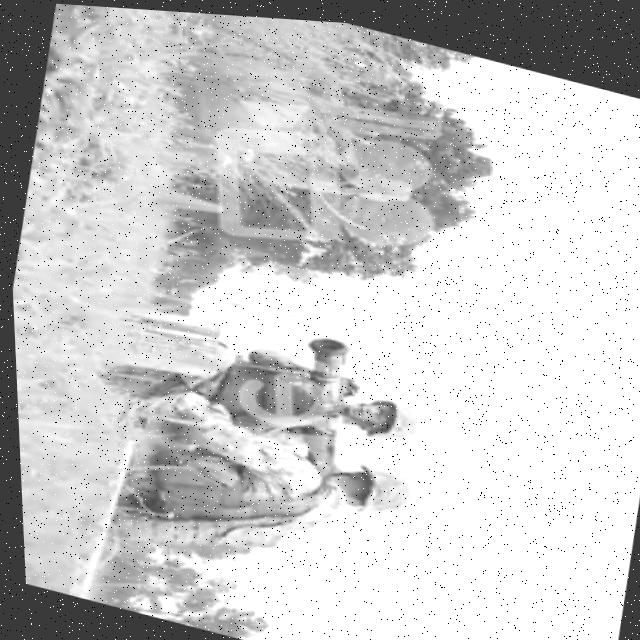rocket: (274, 322, 371, 467)
